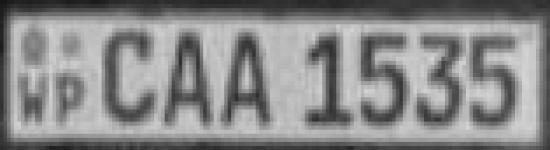1: (297, 25, 356, 135)
3: (411, 25, 471, 132)
5: (464, 29, 527, 130), (356, 25, 413, 134)
A: (157, 28, 220, 134), (221, 30, 279, 132)
C: (98, 24, 160, 126)
P: (51, 68, 91, 133)
W: (13, 66, 51, 130)
